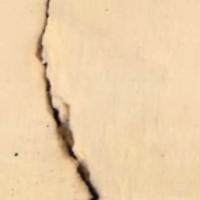crack: (20, 0, 153, 199)
